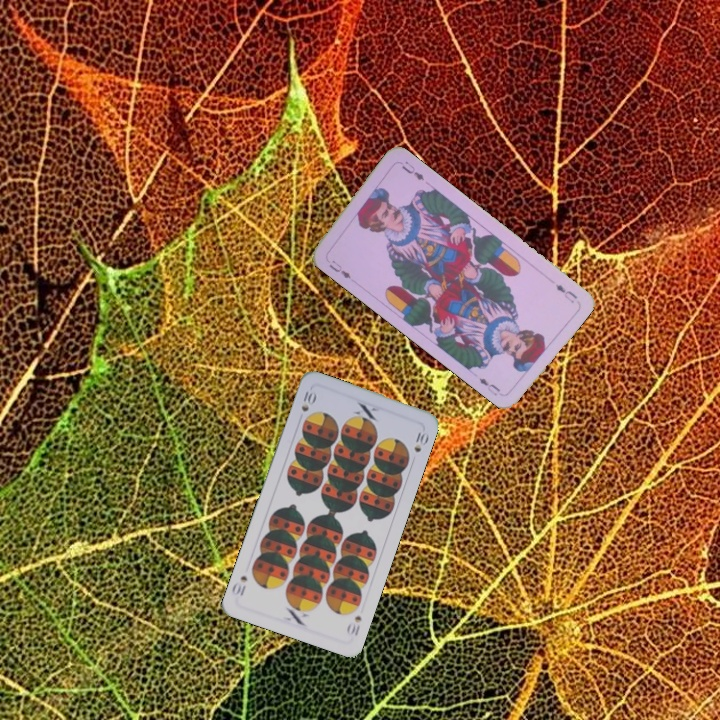EU: (551, 280, 580, 306), (325, 256, 354, 281)
S10: (297, 387, 318, 415), (343, 612, 364, 639)
